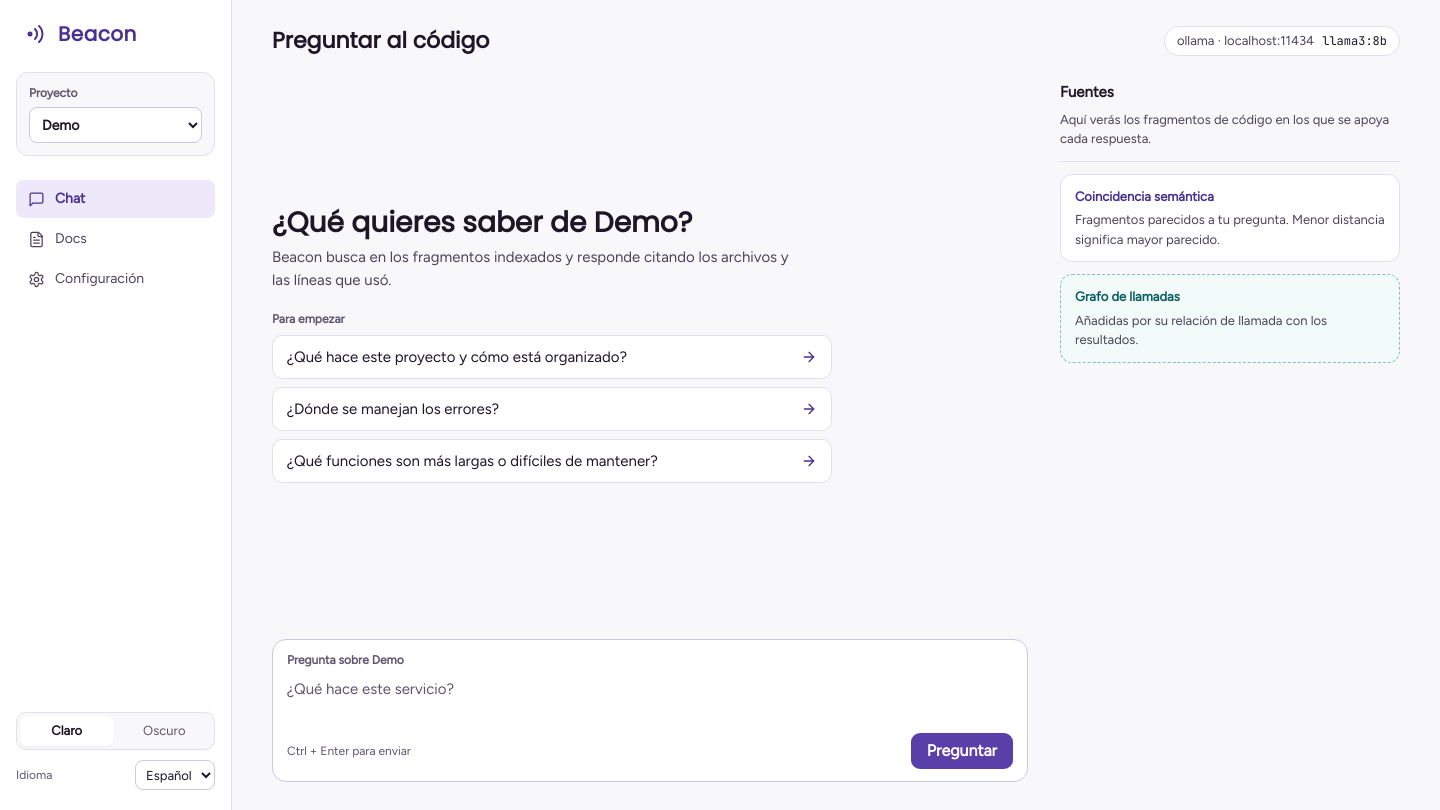
chat › conserva las preguntas anteriores y permite volver a sus fuentes
The width and height of the screenshot is (1440, 810).
Type "Primera pregunta" into the text box at {"x": 650, "y": 700}, box [287, 678, 1013, 723]
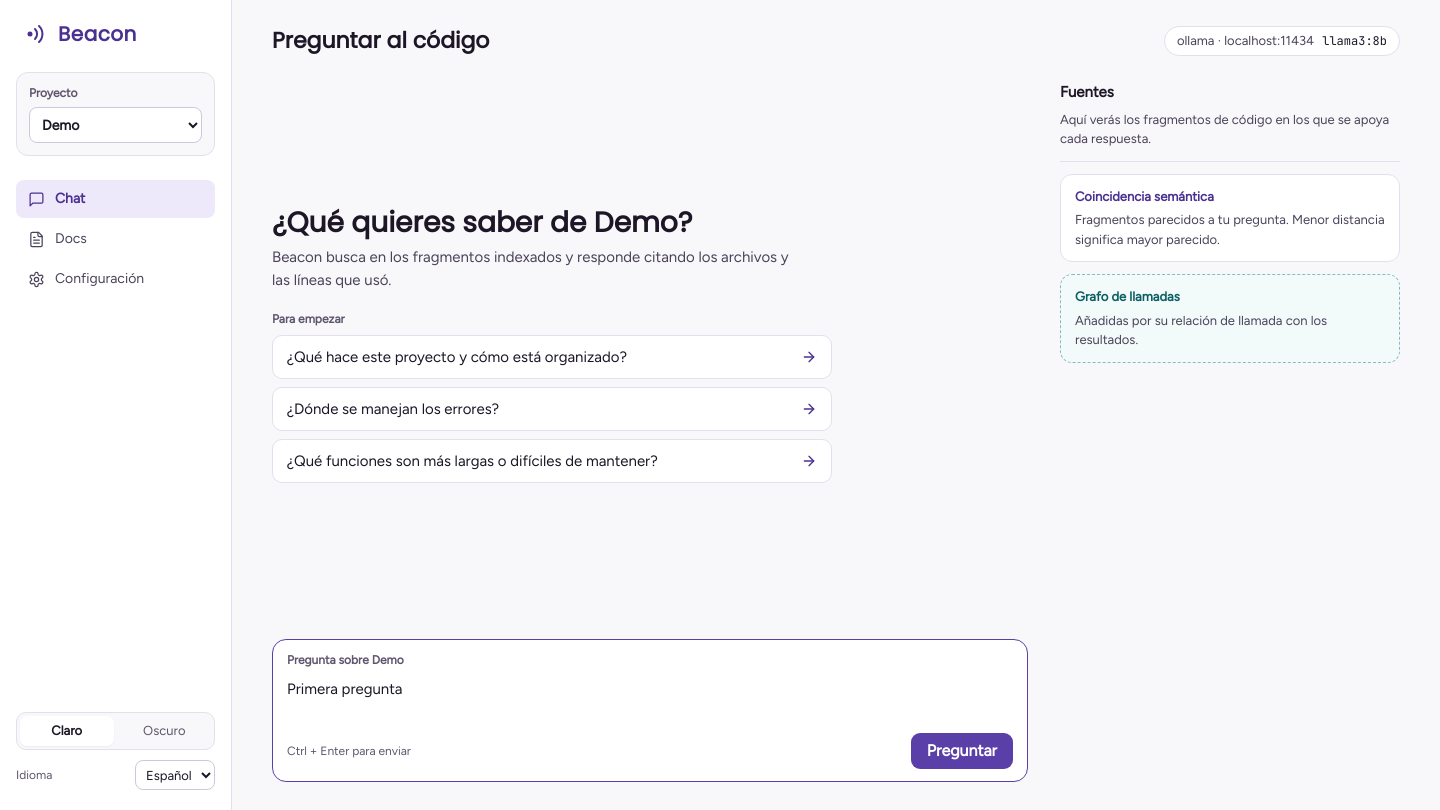
Click the button "Preguntar" at {"x": 962, "y": 751}, box [911, 733, 1013, 769]
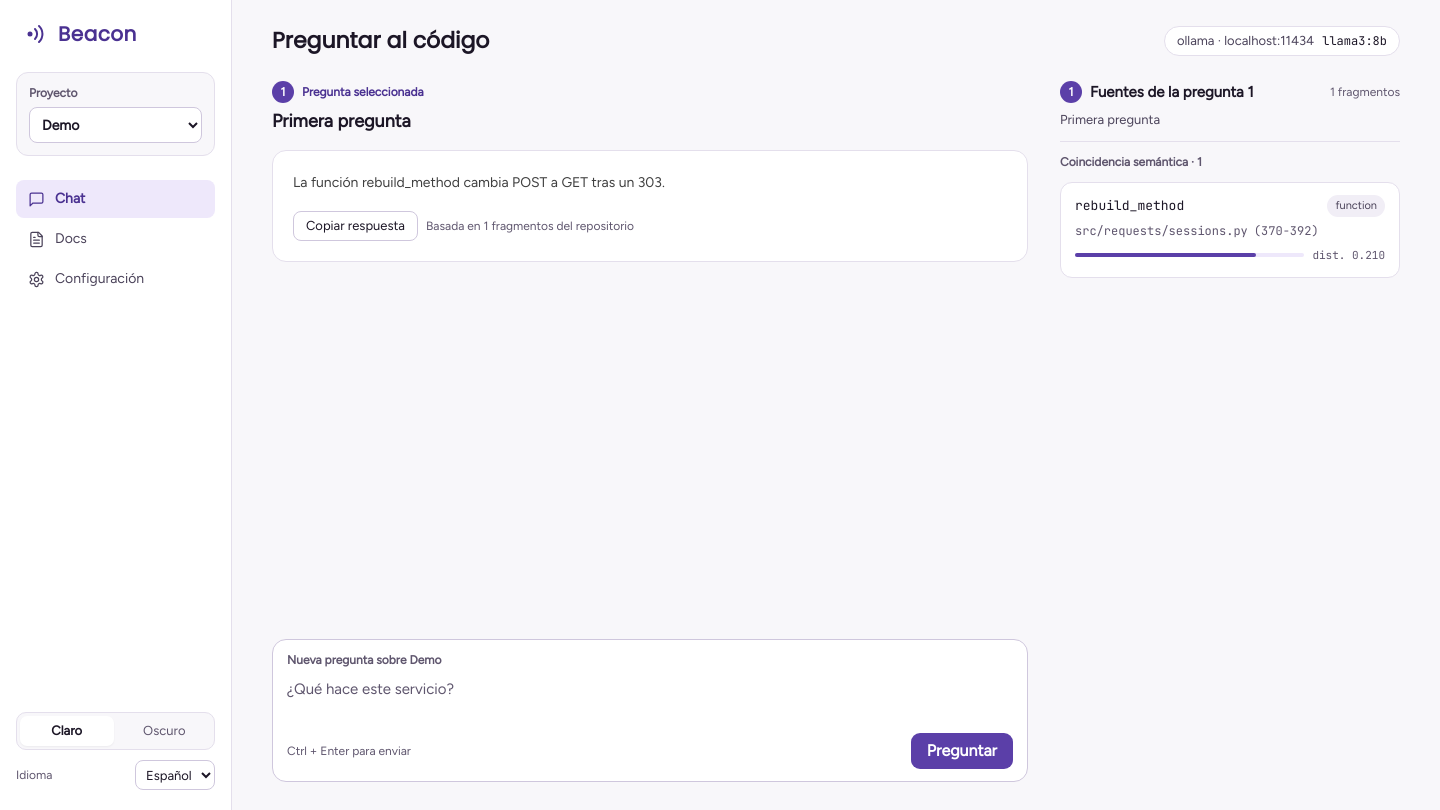
Now the heading "Fuentes de la pregunta 1" is shown, box [1090, 81, 1254, 104]
Type "Segunda pregunta" into the text box at {"x": 650, "y": 700}, box [287, 678, 1013, 723]
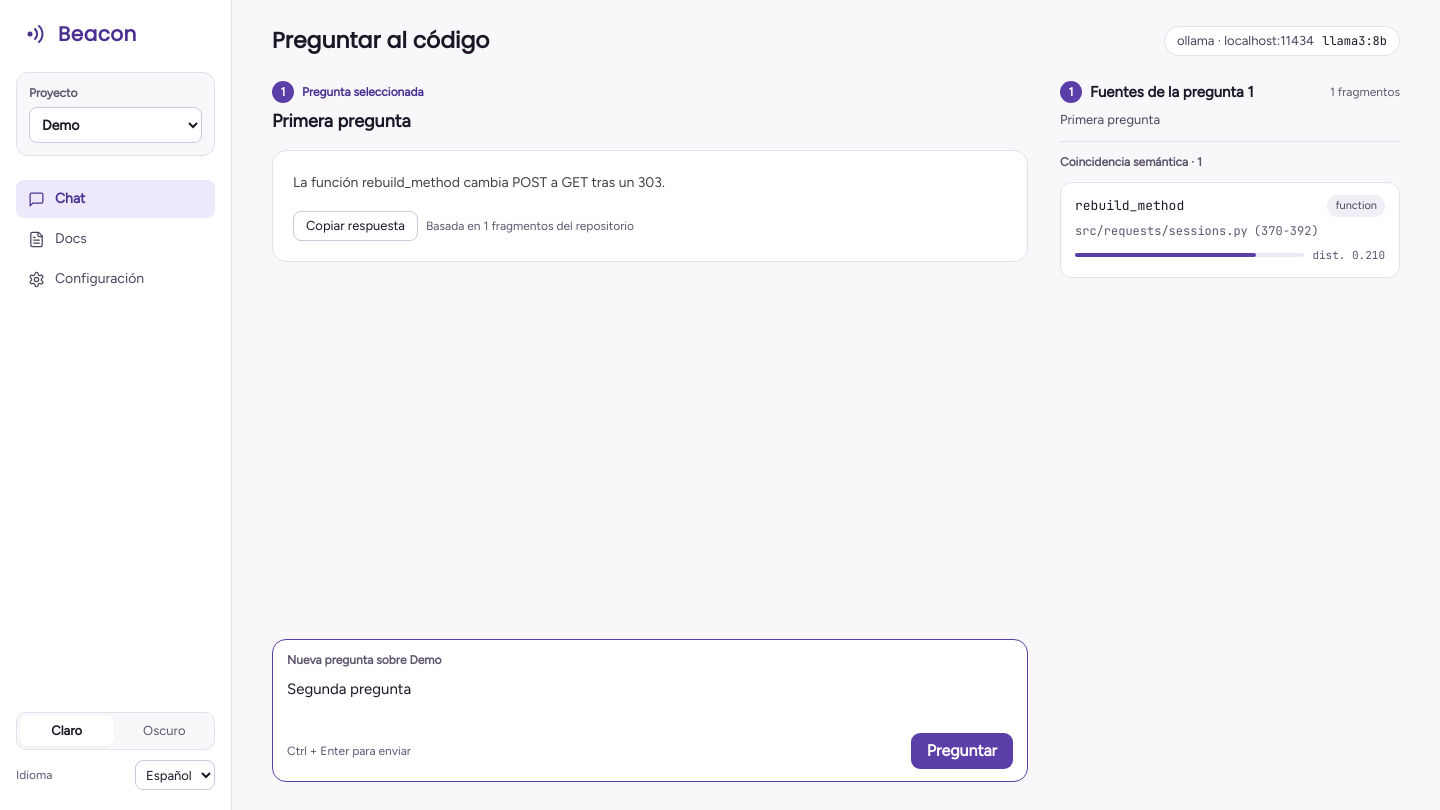
Click the button "Preguntar" at {"x": 962, "y": 751}, box [911, 733, 1013, 769]
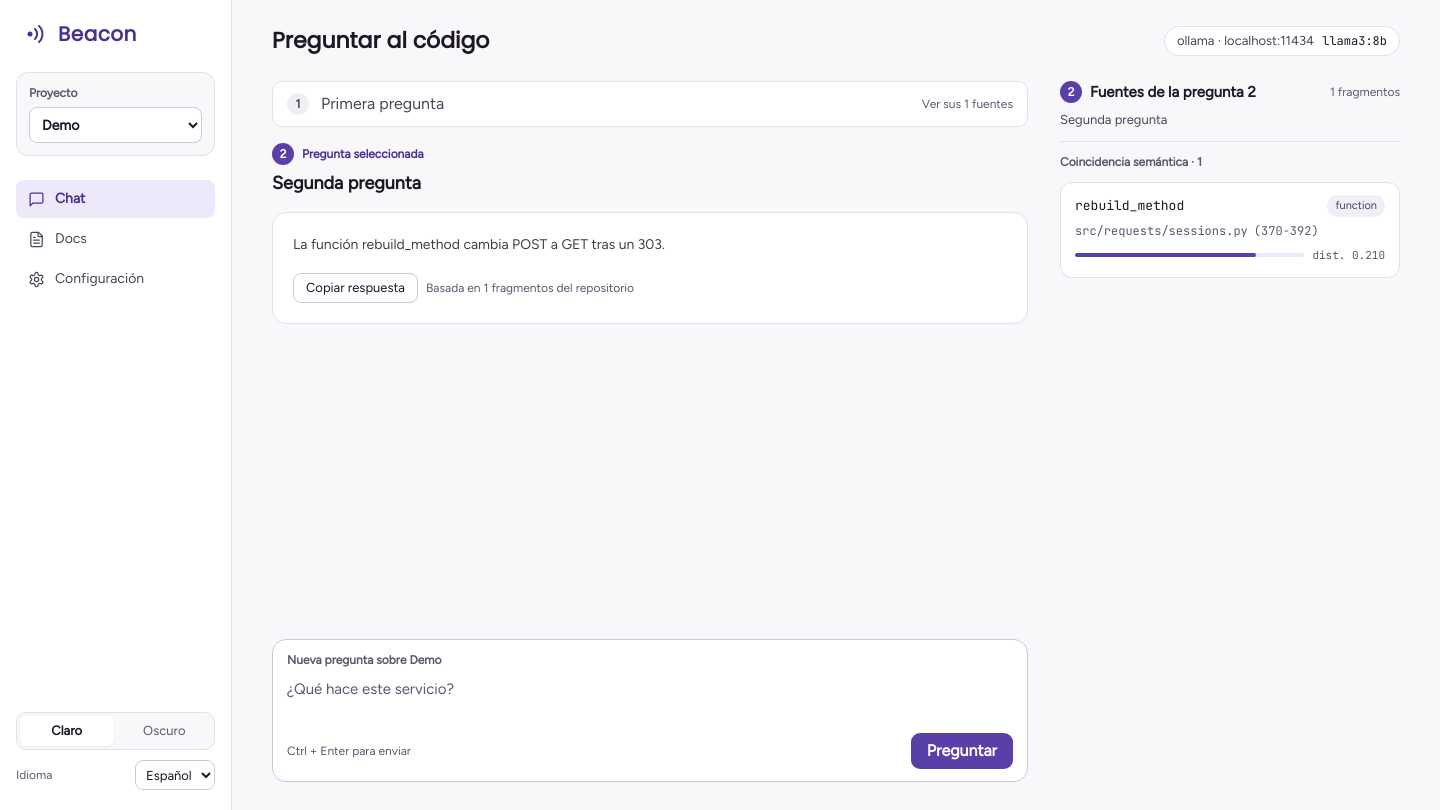
Now the heading "Fuentes de la pregunta 2" is shown, box [1090, 81, 1256, 104]
Click the button "1 Primera pregunta Ver sus 1 fuentes" at {"x": 383, "y": 104}, box [272, 81, 1028, 127]
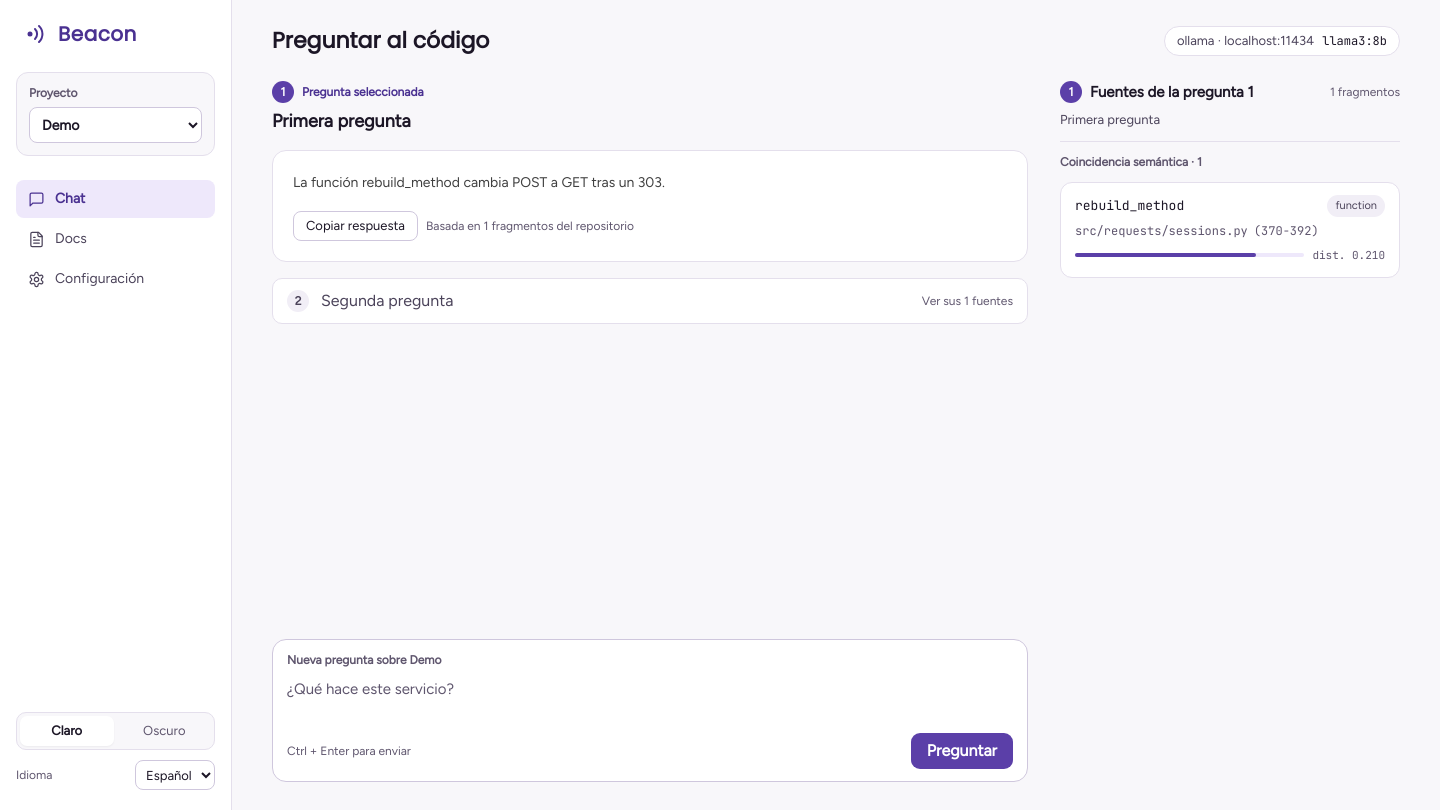
Now the heading "Fuentes de la pregunta 1" is shown, box [1090, 81, 1254, 104]
